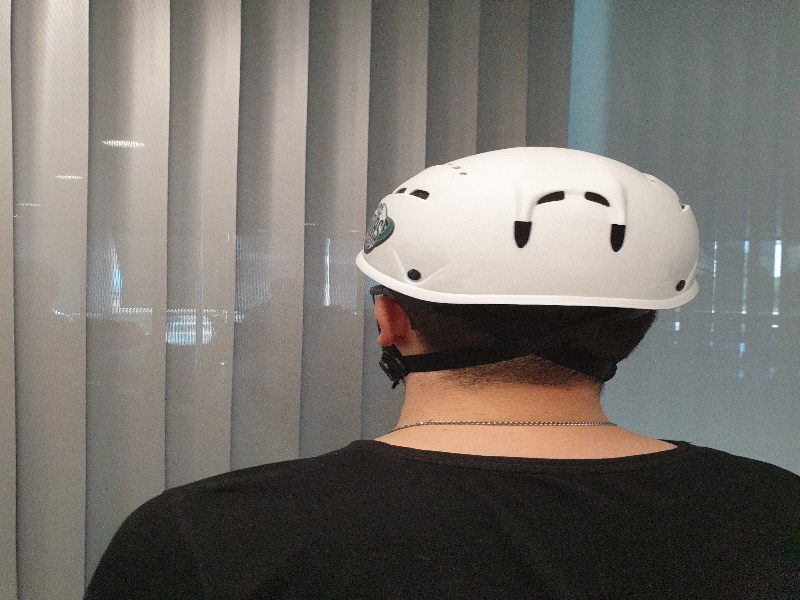Baret: (352, 144, 704, 313)
